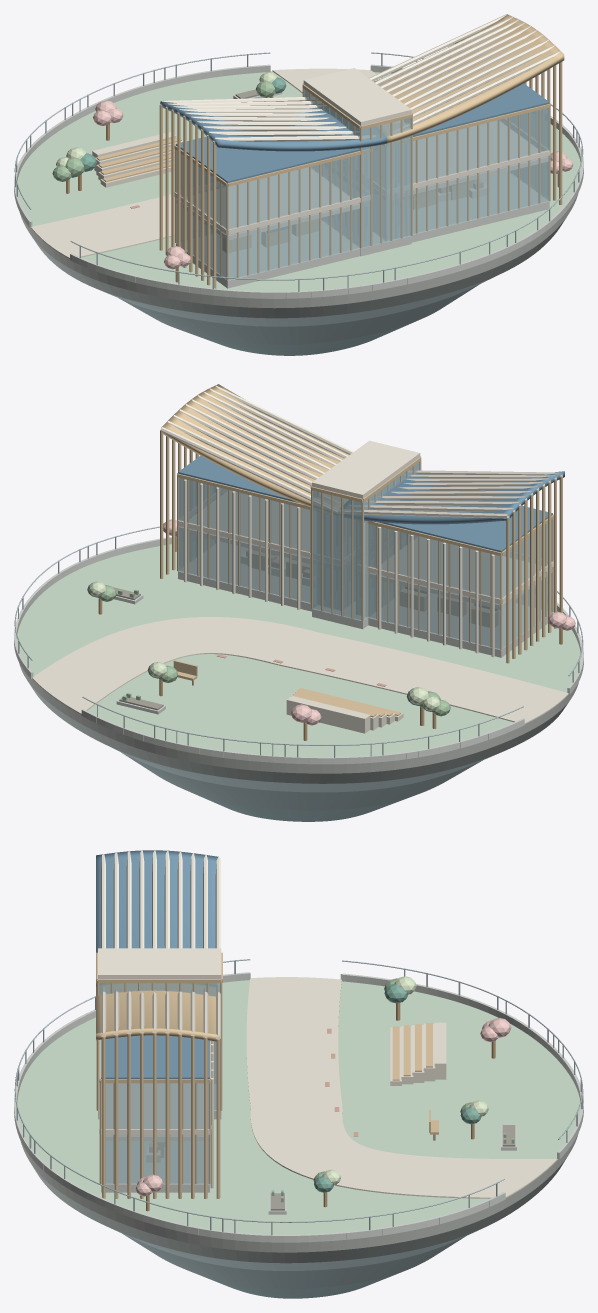
The picture shows the model from 3 angles, top to bottom: view 1: azimuth 30°, elevation 25°; view 2: azimuth 150°, elevation 25°; view 3: azimuth 270°, elevation 25°; orthographic projection. The views are drawn at different scales.
Parts seen in each view (by area): view 1: ROLE_building_Components__eduGlass, ROLE_terrain_Components__grass, ROLE_building_Components__eduAmber, ROLE_roof_Components__eduCream, ROLE_building_Components__eduCream, ROLE_roof_Components__eduAmber, ROLE_roof_Components__eduBlue, ROLE_paving_Components__stone2, ROLE_rails_Components__stone2, ROLE_roof_Components__eduGlass, ROLE_paving_Components__paveLight, ROLE_terrain_Components__stone2 (+9 smaller); view 2: ROLE_terrain_Components__grass, ROLE_building_Components__eduGlass, ROLE_paving_Components__paveLight, ROLE_building_Components__eduAmber, ROLE_roof_Components__eduCream, ROLE_building_Components__eduCream, ROLE_roof_Components__eduAmber, ROLE_roof_Components__eduGlass, ROLE_roof_Components__eduBlue, ROLE_paving_Components__stone2, ROLE_rails_Components__stone2, ROLE_terrain_Components__stone2 (+10 smaller); view 3: ROLE_terrain_Components__grass, ROLE_paving_Components__paveLight, ROLE_roof_Components__eduCream, ROLE_roof_Components__eduBlue, ROLE_building_Components__eduAmber, ROLE_rails_Components__stone2, ROLE_building_Components__eduGlass, ROLE_roof_Components__eduAmber, ROLE_terrain_Components__stone2, ROLE_terrain_Components__cliff3, ROLE_building_Components__eduCream, ROLE_terrain_Components__cliff2 (+9 smaller).
Part boxes in pixels (left/top/right/bottom): ROLE_building_Components__eduGlass: left=175, top=108, right=549, bottom=280; ROLE_terrain_Components__grass: left=17, top=71, right=581, bottom=291; ROLE_building_Components__eduAmber: left=96, top=62, right=562, bottom=288; ROLE_roof_Components__eduCream: left=160, top=14, right=560, bottom=141; ROLE_building_Components__eduCream: left=174, top=119, right=550, bottom=240; ROLE_roof_Components__eduAmber: left=302, top=14, right=564, bottom=248; ROLE_roof_Components__eduBlue: left=160, top=83, right=549, bottom=183; ROLE_paving_Components__stone2: left=176, top=172, right=549, bottom=288; ROLE_rails_Components__stone2: left=14, top=64, right=583, bottom=298; ROLE_roof_Components__eduGlass: left=303, top=88, right=411, bottom=247; ROLE_paving_Components__paveLight: left=31, top=68, right=381, bottom=258; ROLE_terrain_Components__stone2: left=20, top=194, right=577, bottom=308; ROLE_terrain_Components__grass: left=16, top=544, right=581, bottom=756; ROLE_building_Components__eduGlass: left=178, top=477, right=553, bottom=649; ROLE_paving_Components__paveLight: left=32, top=617, right=568, bottom=723; ROLE_building_Components__eduAmber: left=160, top=430, right=562, bottom=717; ROLE_roof_Components__eduCream: left=160, top=385, right=562, bottom=518; ROLE_building_Components__eduCream: left=177, top=479, right=553, bottom=657; ROLE_roof_Components__eduAmber: left=161, top=384, right=421, bottom=621; ROLE_roof_Components__eduGlass: left=312, top=461, right=420, bottom=620; ROLE_roof_Components__eduBlue: left=178, top=456, right=564, bottom=552; ROLE_paving_Components__stone2: left=178, top=542, right=552, bottom=657; ROLE_rails_Components__stone2: left=14, top=536, right=583, bottom=764; ROLE_terrain_Components__stone2: left=19, top=663, right=578, bottom=773; ROLE_terrain_Components__grass: left=17, top=980, right=580, bottom=1234; ROLE_paving_Components__paveLight: left=246, top=977, right=557, bottom=1198; ROLE_roof_Components__eduCream: left=98, top=850, right=221, bottom=1039; ROLE_roof_Components__eduBlue: left=96, top=850, right=218, bottom=1079; ROLE_building_Components__eduAmber: left=99, top=1023, right=432, bottom=1198; ROLE_rails_Components__stone2: left=14, top=972, right=583, bottom=1242; ROLE_building_Components__eduGlass: left=101, top=1083, right=209, bottom=1183; ROLE_roof_Components__eduAmber: left=96, top=952, right=222, bottom=1110; ROLE_terrain_Components__stone2: left=20, top=1134, right=578, bottom=1252; ROLE_terrain_Components__cliff3: left=31, top=1158, right=566, bottom=1263; ROLE_building_Components__eduCream: left=99, top=1041, right=213, bottom=1188; ROLE_terrain_Components__cliff2: left=123, top=1234, right=465, bottom=1288.
Bounding box in the file's own units: 32.74 × 17.99 × 29.82.
